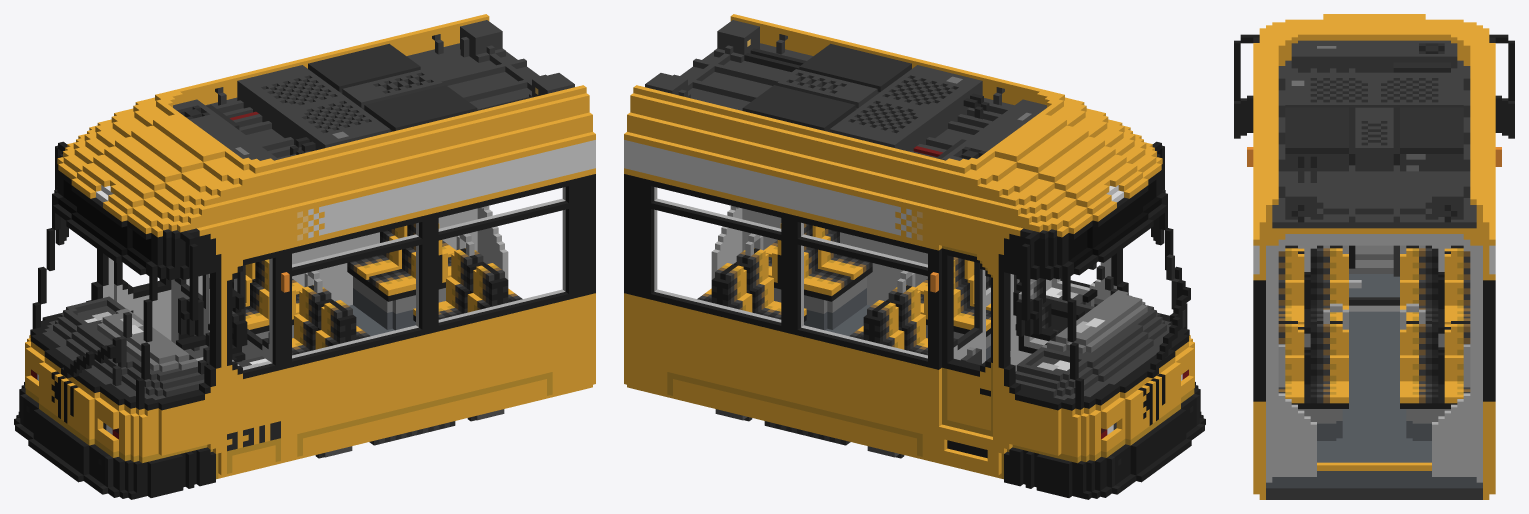
File: ngtcab.obj
3 renders of one model, left to right at view 1: azimuth 30°, elevation 25°; view 2: azimuth 150°, elevation 25°; view 3: azimuth 270°, elevation 25°, orthographic.
Visible parts, largest first — view 1: FRAME; view 2: FRAME; view 3: FRAME.
Part boxes in pixels (bbox=[...]): FRAME: bbox=[14, 14, 595, 499]; FRAME: bbox=[624, 14, 1205, 499]; FRAME: bbox=[1234, 14, 1514, 499].
Size of what is drawn, in the model's own units: 5.56 by 3.5 by 2.75.
1 material, 1 textured.
